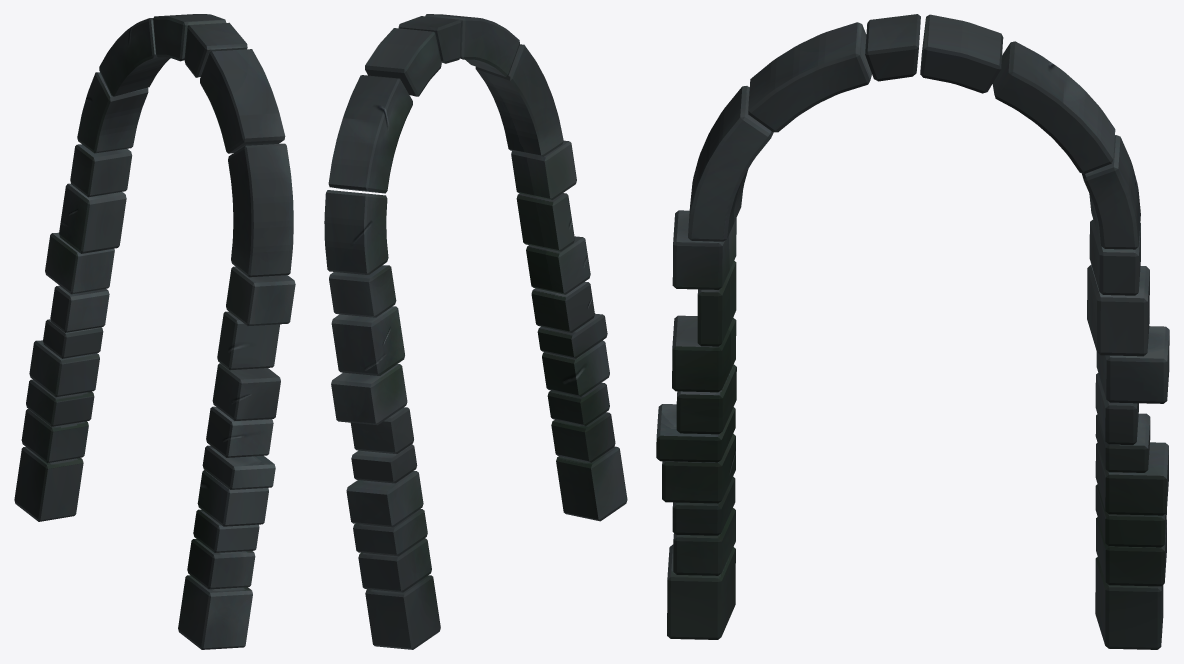
The model's file is arc gate (use stone gate texture).fbx.
The picture shows the model from 3 angles, left to right: view 1: azimuth 30°, elevation 25°; view 2: azimuth 150°, elevation 25°; view 3: azimuth 270°, elevation 25°; orthographic projection. The views are drawn at different scales.
Parts seen in each view (by area): view 1: Wall.001; view 2: Wall.001; view 3: Wall.001.
Boxes of the visible parts, x1,y1,x2,y2 form: Wall.001: (14,14,295,649); Wall.001: (324,14,627,649); Wall.001: (656,14,1169,649).
Bounding box in the file's own units: 233 × 929 × 658.
